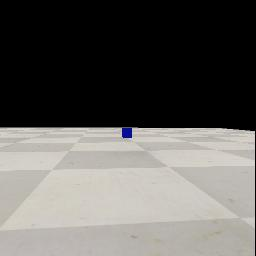box: (122, 128, 132, 138)
